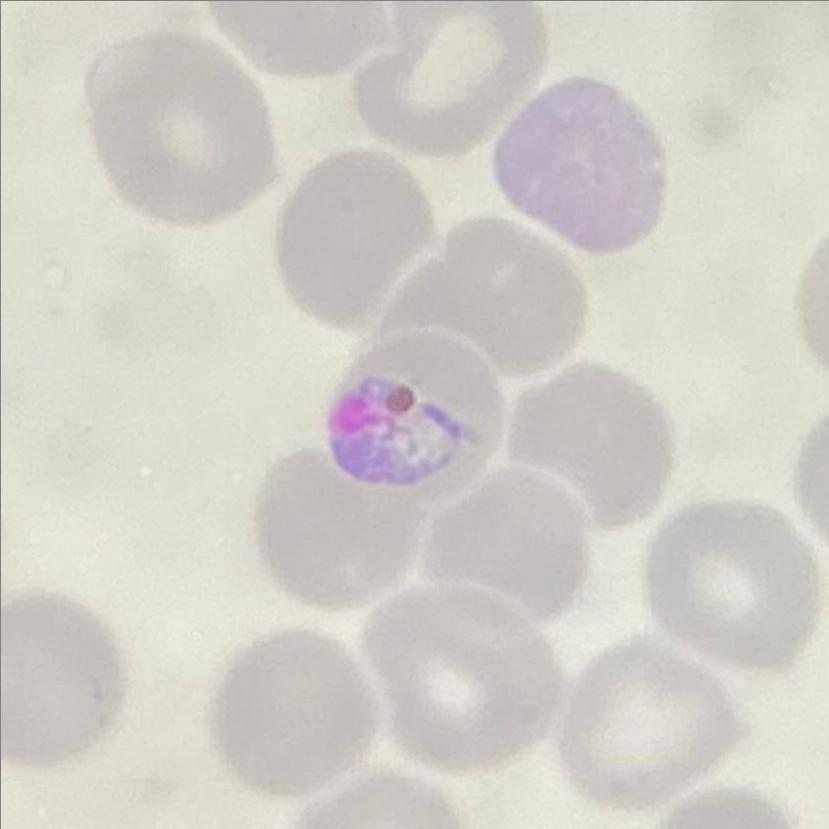Infected: (331, 329, 505, 502)
Uninfected: (362, 582, 563, 771), (83, 30, 276, 224), (378, 216, 586, 375), (557, 640, 735, 806), (496, 77, 665, 251), (276, 150, 438, 330), (648, 506, 824, 670), (359, 4, 548, 155), (255, 449, 430, 611), (424, 468, 591, 623), (214, 630, 374, 790), (508, 366, 669, 525), (2, 597, 125, 766)
